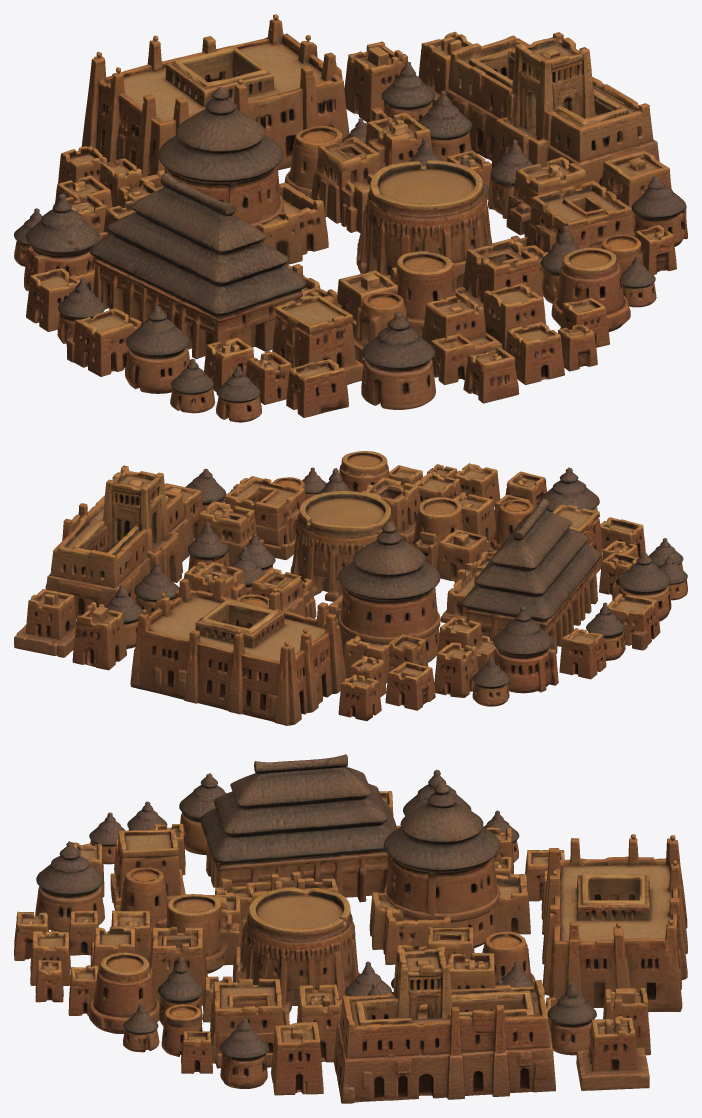
The model's file is Ancient City (West African).fbx.
3 views of the same model, one above another, from view 1: azimuth 30°, elevation 25°; view 2: azimuth 150°, elevation 25°; view 3: azimuth 270°, elevation 25° (orthographic). The views are drawn at different scales.
Parts seen in each view (by area): view 1: tripo_node_724ae138; view 2: tripo_node_724ae138; view 3: tripo_node_724ae138.
Part boxes in pixels (x1,y1,x2,y2): tripo_node_724ae138: (14, 14, 687, 422); tripo_node_724ae138: (14, 451, 687, 725); tripo_node_724ae138: (14, 754, 687, 1103).
Size of the model in its own units: 0.9972 by 0.2423 by 1.
